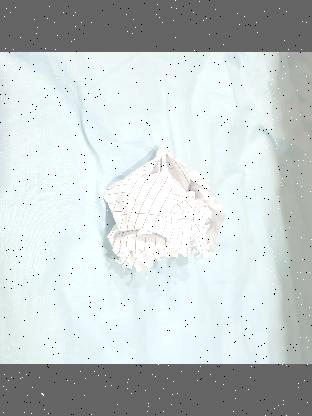Others: (103, 154, 221, 270)
